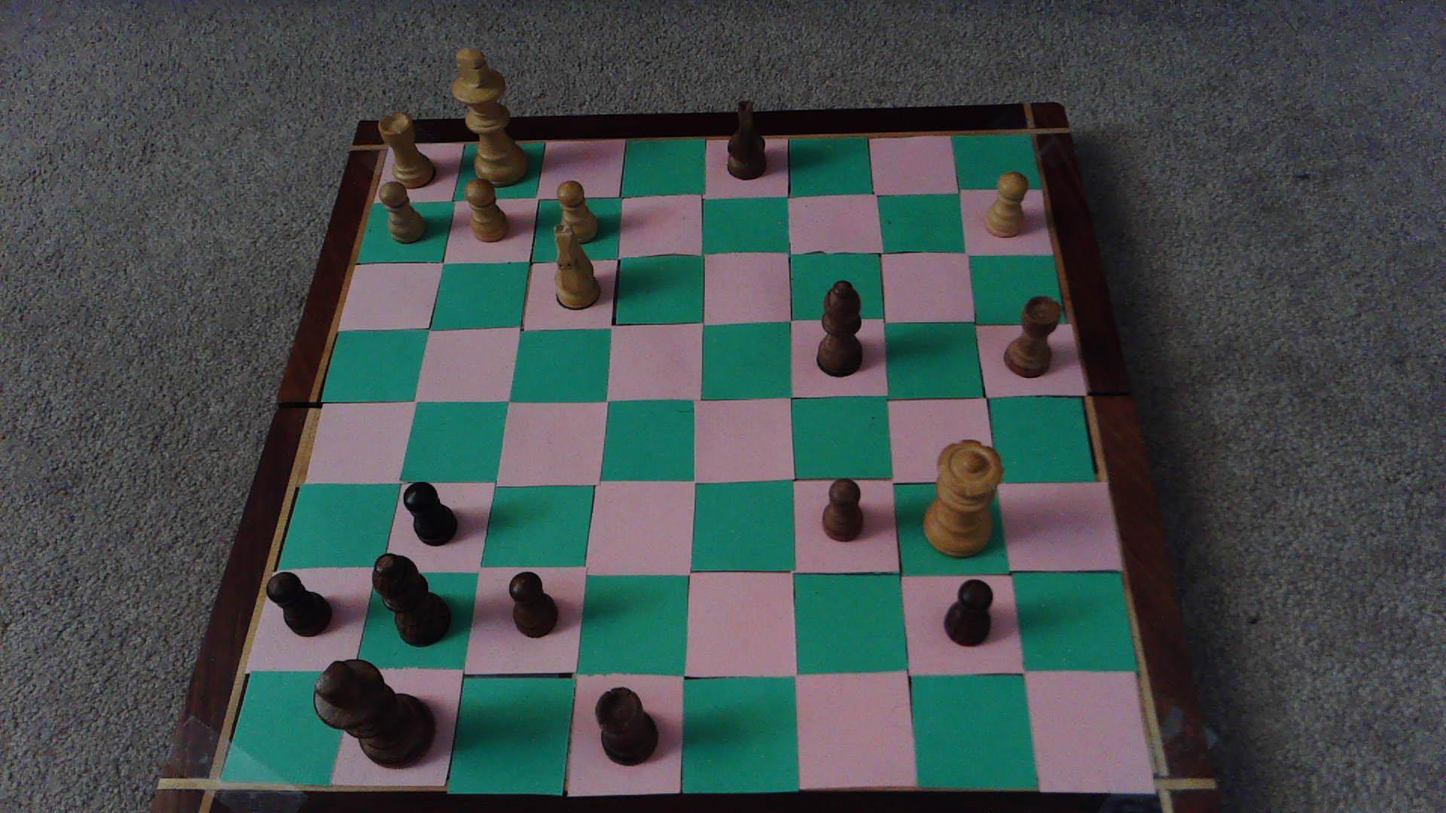dark_piece: (314, 659, 434, 767), (374, 553, 450, 645), (596, 687, 657, 765), (1006, 296, 1060, 377), (818, 280, 862, 375), (268, 573, 331, 636), (404, 482, 456, 545), (509, 571, 557, 637), (944, 580, 992, 645), (728, 101, 764, 179), (822, 480, 862, 540)
white_piece: (452, 48, 528, 184), (923, 440, 1002, 556), (377, 112, 436, 188), (551, 223, 600, 310), (377, 181, 426, 243), (463, 179, 508, 243), (556, 180, 600, 243), (986, 172, 1027, 237)
